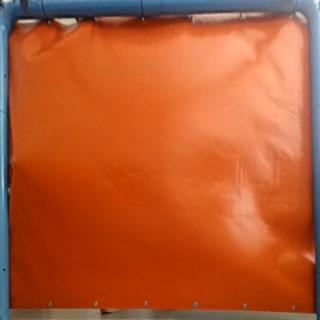Hit-hRxx: (6, 152, 20, 170)
